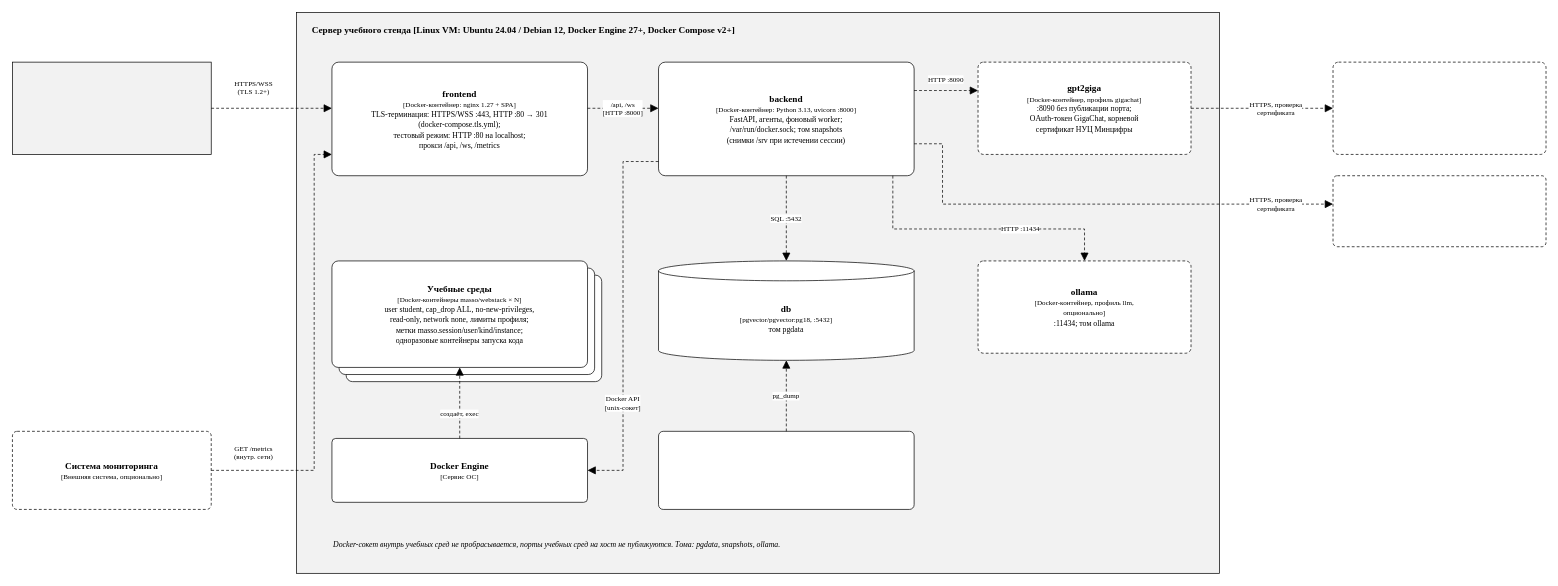
This 1558x586 diagram has some shape labels left out. The centre of each missing label's shape, as x and y in pixels:
GigaChat API [Внешняя система]: the point at 1439,107
Внешний LLM-провайдер [Внешняя система, опционально] иной OpenAI-совместимый API: the point at 1439,211
Рабочее место пользователя [Chromium / Firefox, экран от 1366×768]: the point at 111,107
Резервное копирование [cron + pg_dump на хосте] ежедневно, хранение 30 дней: the point at 786,470
